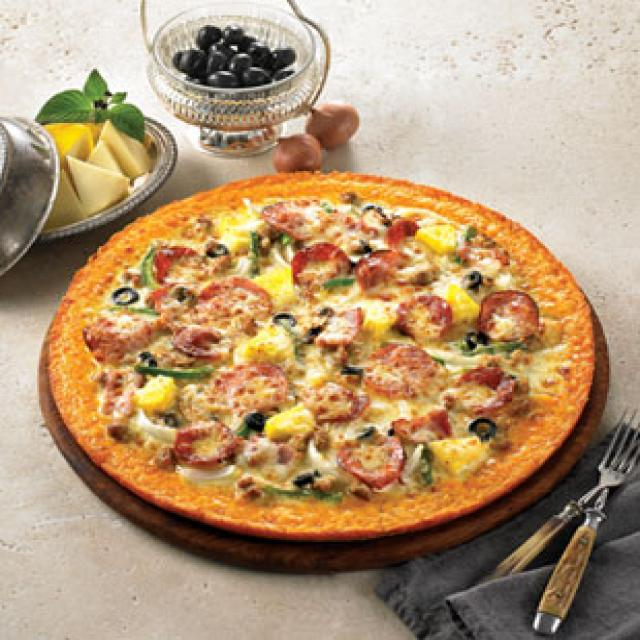Wet Waste: (38, 166, 606, 552)
